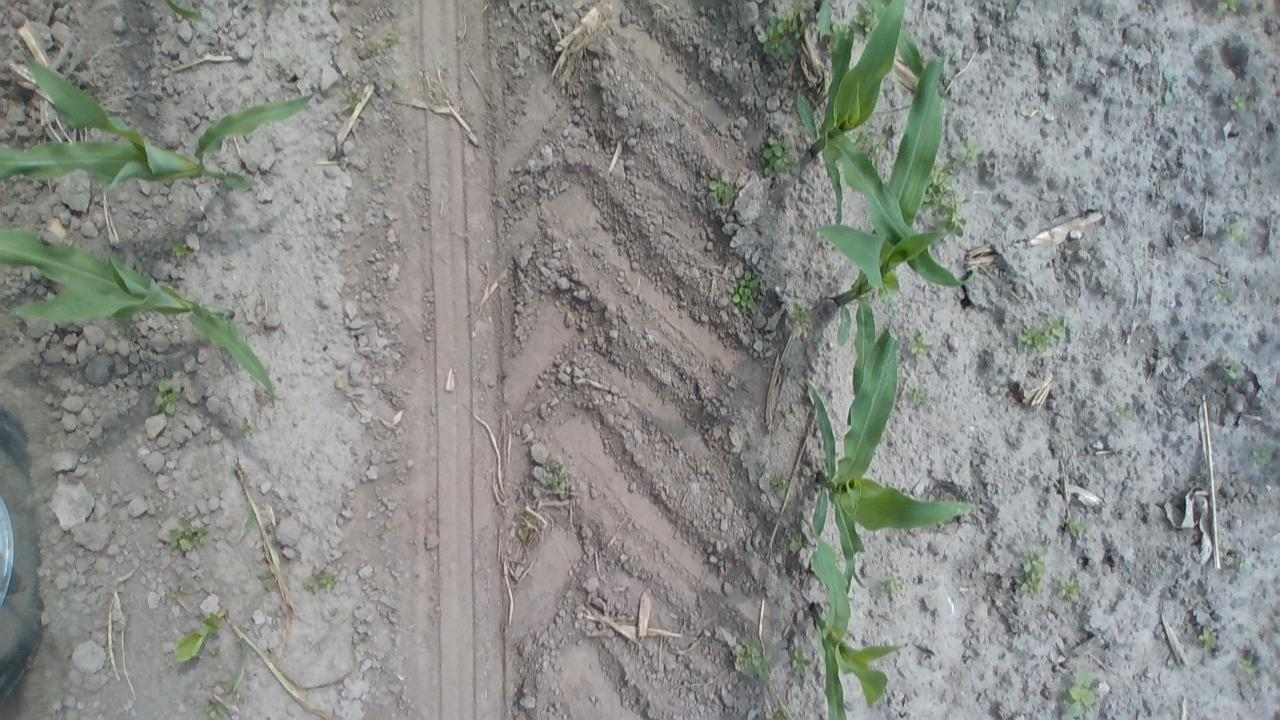Maize: (794, 4, 960, 424), (804, 291, 990, 609), (802, 0, 978, 286), (0, 224, 279, 402), (0, 43, 320, 197), (802, 503, 911, 718), (172, 608, 228, 666), (160, 0, 216, 27)
Weeds: (922, 161, 968, 240), (1014, 312, 1070, 356), (730, 636, 776, 688), (762, 3, 807, 56), (1060, 666, 1100, 720), (163, 516, 210, 556), (1016, 544, 1050, 599), (760, 136, 798, 180), (728, 267, 762, 315), (848, 121, 892, 158), (354, 28, 400, 60), (537, 456, 572, 496), (150, 378, 185, 418), (302, 566, 342, 596), (950, 137, 986, 170), (706, 170, 738, 207), (876, 571, 910, 603), (851, 4, 880, 37), (336, 83, 369, 112), (198, 696, 239, 718), (1054, 574, 1082, 606), (787, 648, 813, 682), (511, 514, 538, 545), (1249, 440, 1275, 472), (1110, 399, 1138, 428), (1218, 355, 1246, 384), (908, 329, 932, 362), (784, 524, 808, 556), (1193, 622, 1219, 650), (788, 301, 812, 330), (1160, 68, 1180, 102), (910, 384, 934, 412), (1214, 282, 1241, 306), (1234, 656, 1263, 678), (1224, 221, 1248, 247), (1226, 90, 1252, 114), (1228, 550, 1251, 576), (165, 238, 194, 258), (769, 470, 790, 494), (1064, 518, 1088, 537), (252, 565, 276, 584), (238, 416, 256, 437), (1235, 620, 1252, 638), (381, 78, 398, 96), (1216, 0, 1241, 12), (829, 21, 850, 34), (772, 706, 786, 720), (222, 682, 235, 694), (208, 646, 220, 657), (165, 591, 176, 601), (824, 42, 832, 54), (707, 454, 716, 463), (790, 715, 800, 720), (758, 714, 766, 720)
